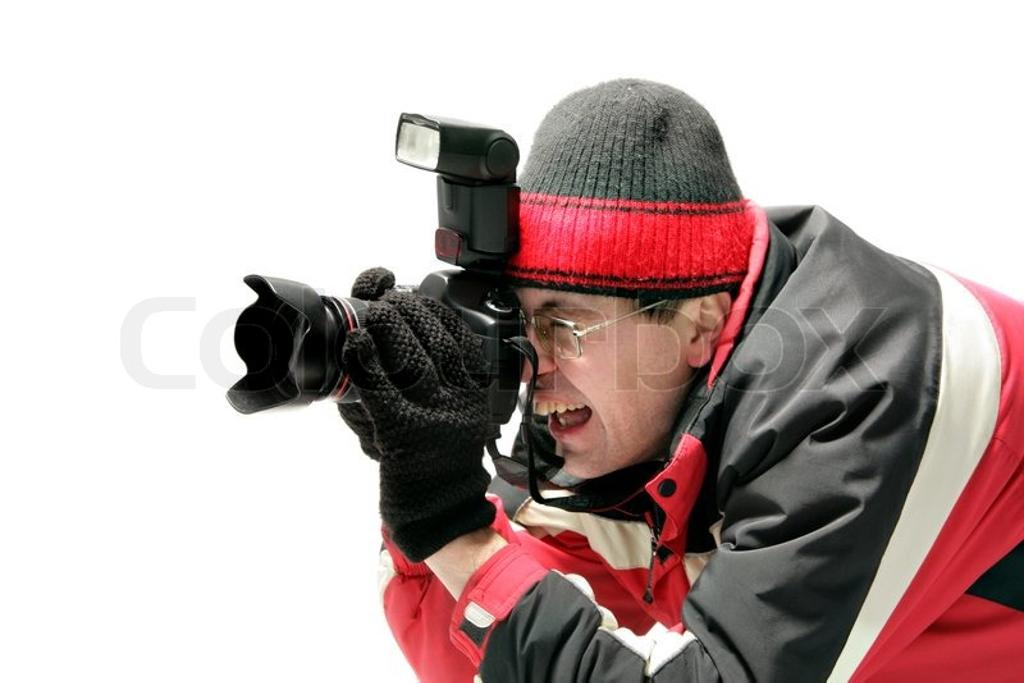face: (512, 232, 666, 478)
